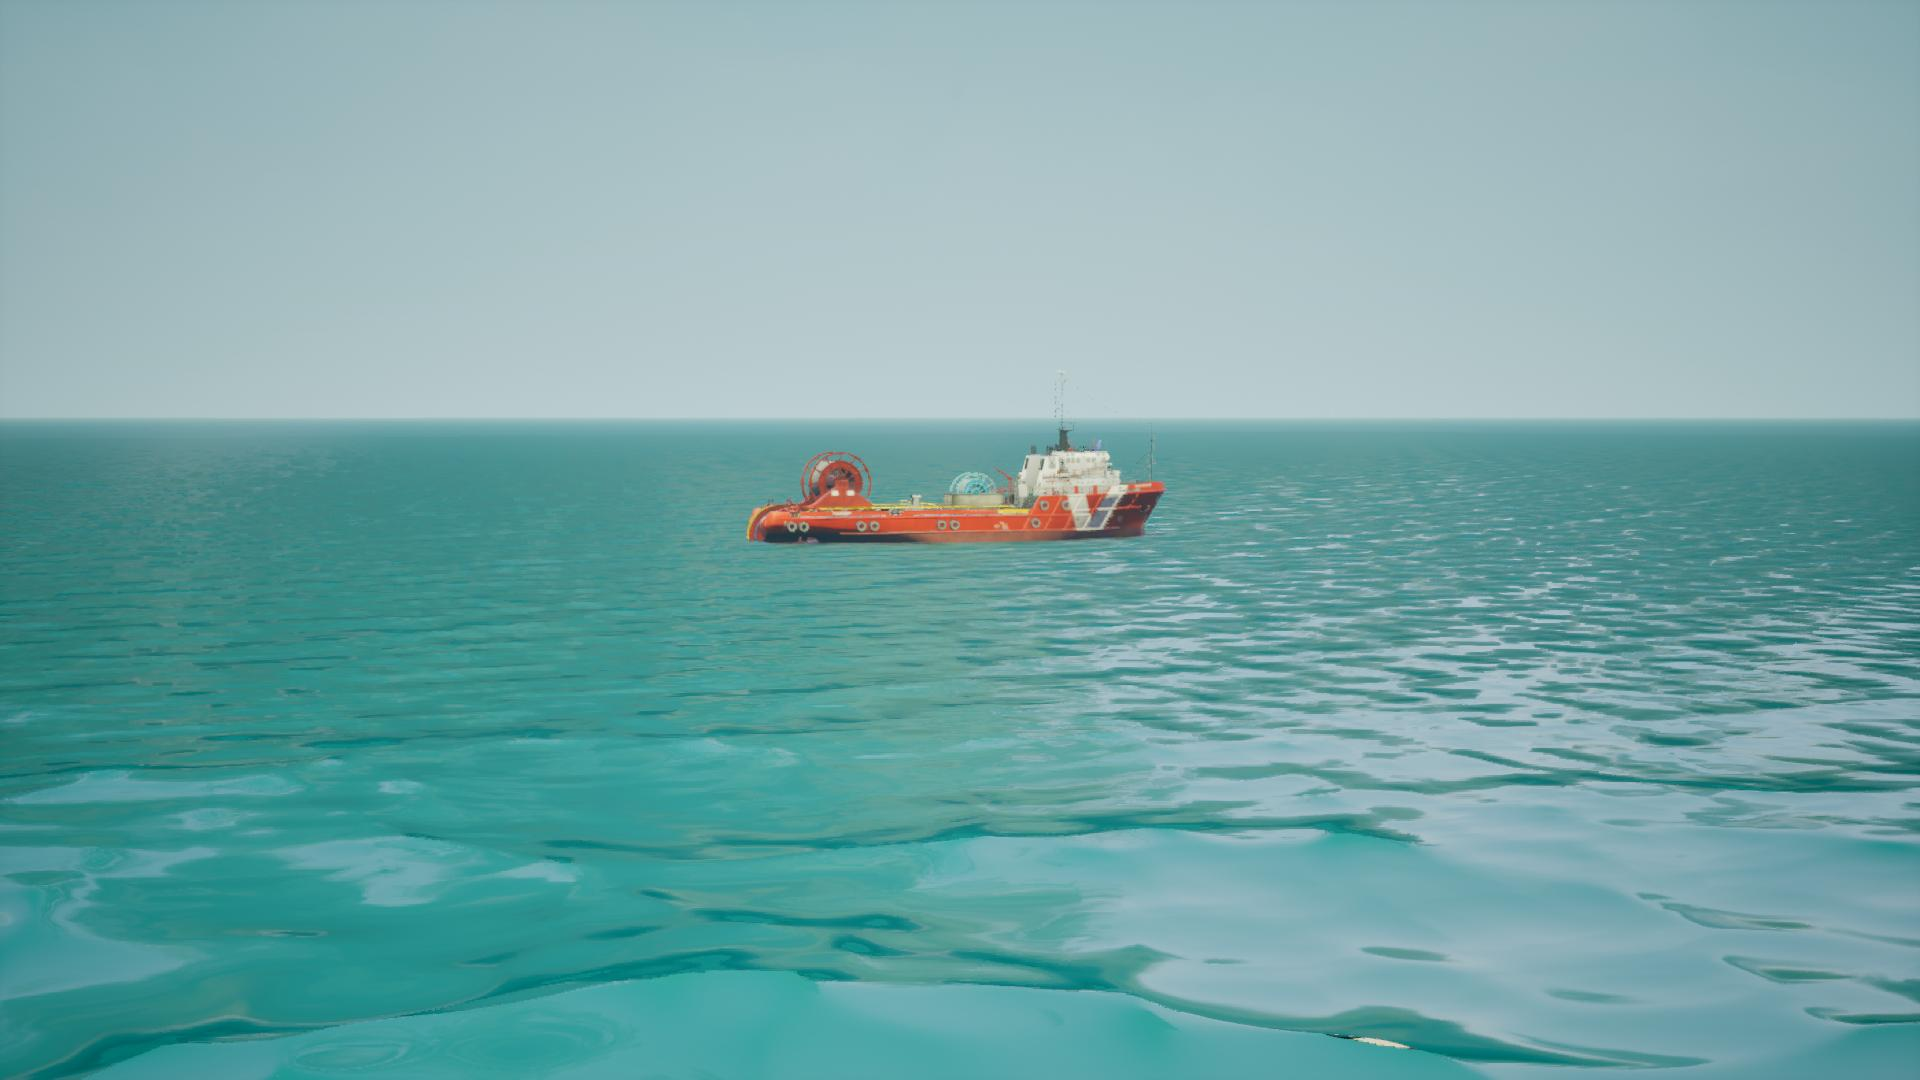Tug Boat: (742, 372, 1174, 547)
